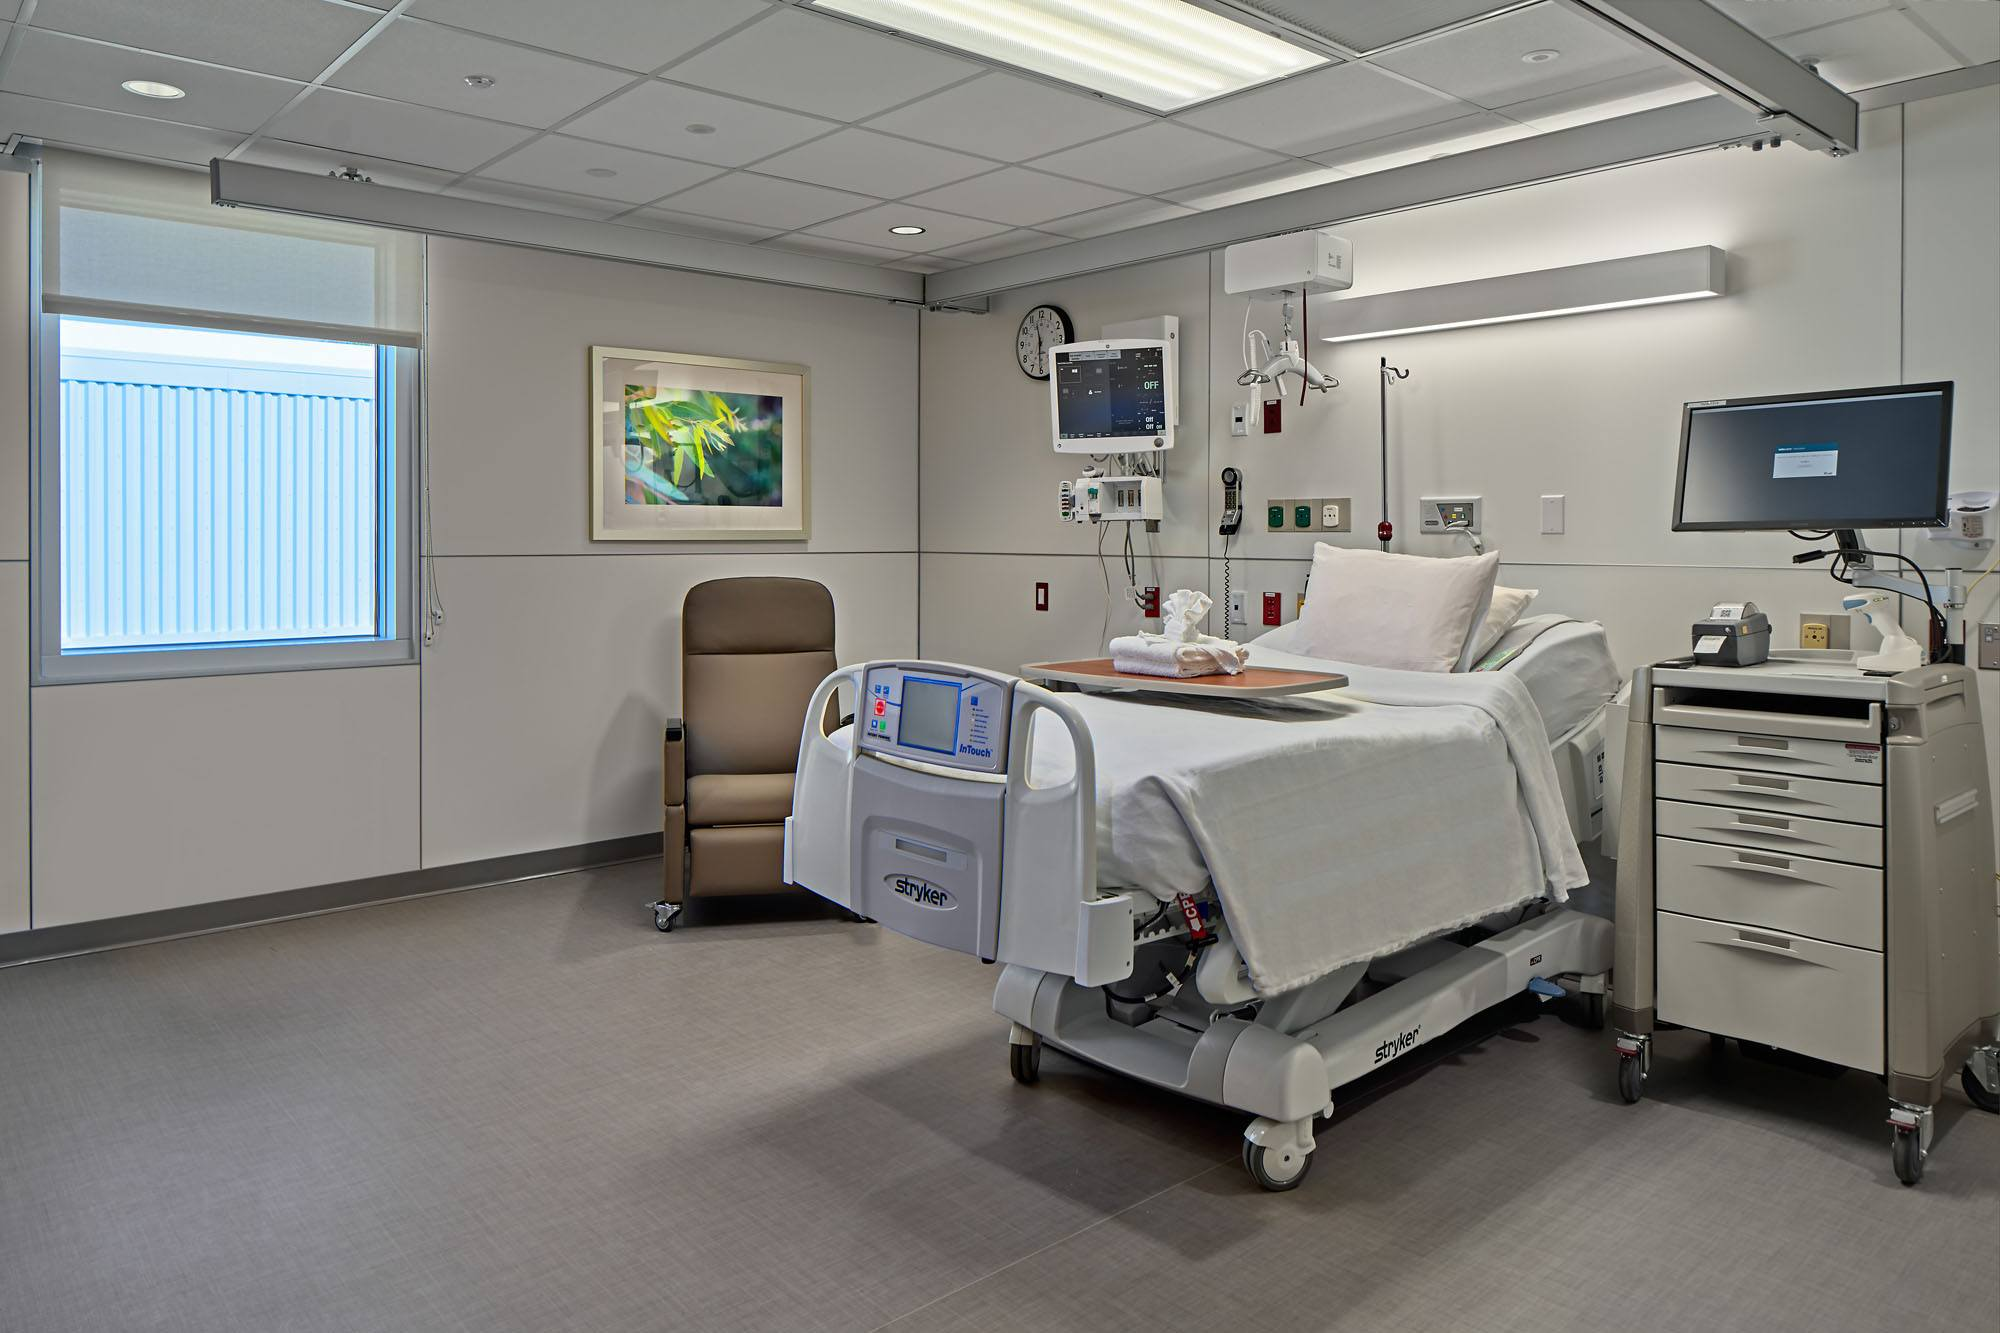bedside_monitor: (1688, 405, 1964, 513), (1039, 335, 1188, 461)
foot_board: (726, 674, 1154, 991)
handle: (1697, 919, 1838, 974), (1697, 847, 1838, 896), (1700, 719, 1836, 769), (1700, 805, 1838, 849), (1697, 771, 1838, 806)
hospital_bed: (779, 539, 1624, 1215)
iv_pole: (1355, 362, 1408, 549)
medical_drawer: (1619, 650, 1975, 1172)
overbed_table: (1028, 649, 1358, 710)
sofa: (656, 565, 865, 945)
